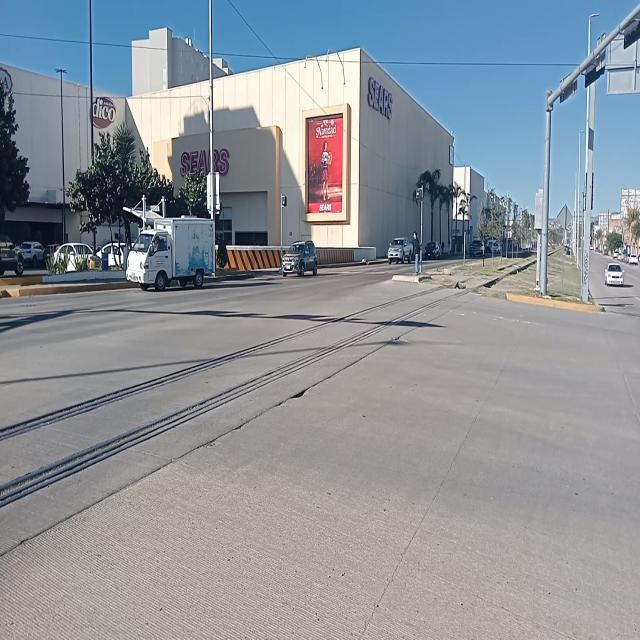Auto: (125, 216, 219, 296), (280, 237, 321, 284), (390, 235, 408, 267)
Peaton: (412, 229, 422, 279)
